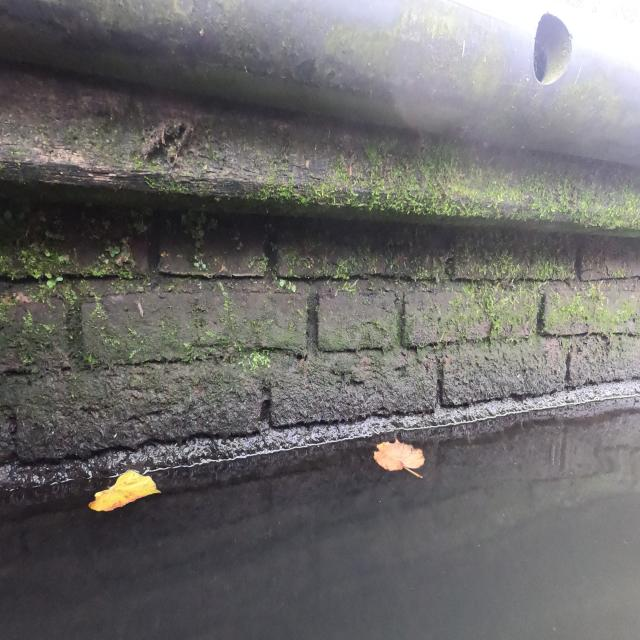water: (0, 416, 636, 632)
